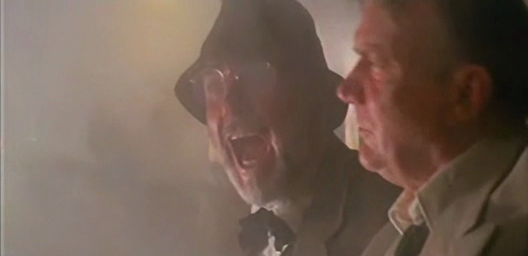cu: (1, 1, 528, 256)
face: (190, 58, 292, 207), (340, 1, 417, 172)
person: (174, 1, 405, 256), (337, 1, 528, 255)
